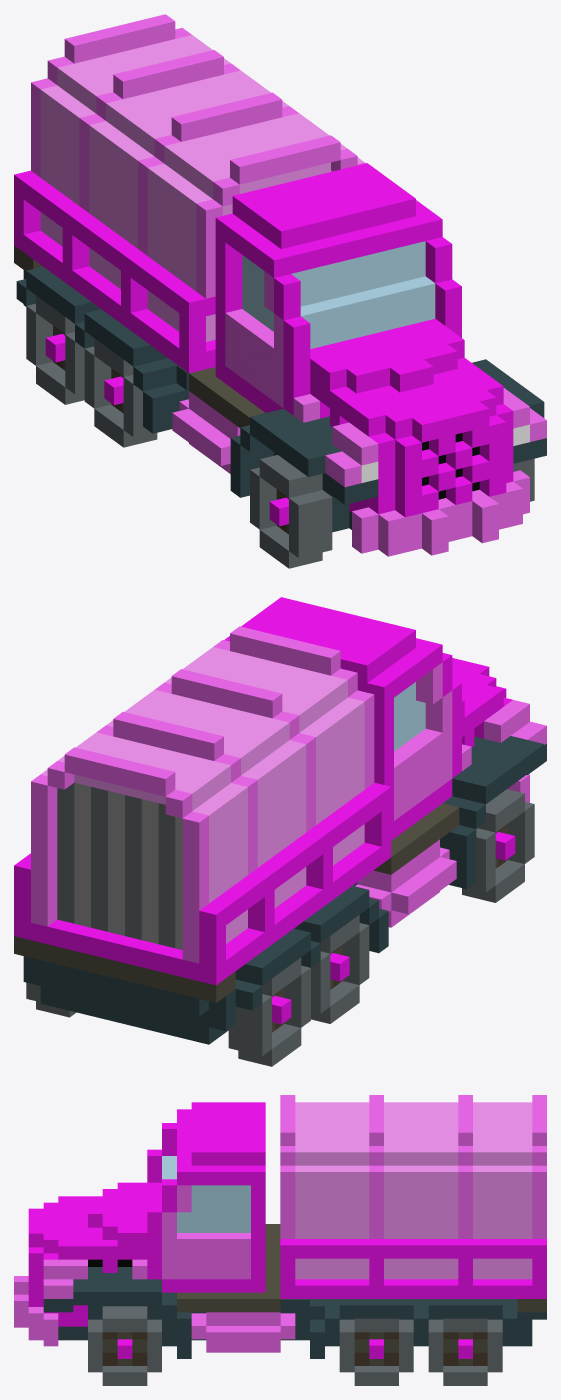
File: truck.obj
The picture shows the model from 3 angles, top to bottom: view 1: azimuth 30°, elevation 25°; view 2: azimuth 150°, elevation 25°; view 3: azimuth 270°, elevation 25°; orthographic projection. The views are drawn at different scales.
Bounding box in the file's own units: 1.4 × 1.7 × 3.6.
1 material, 1 textured.
